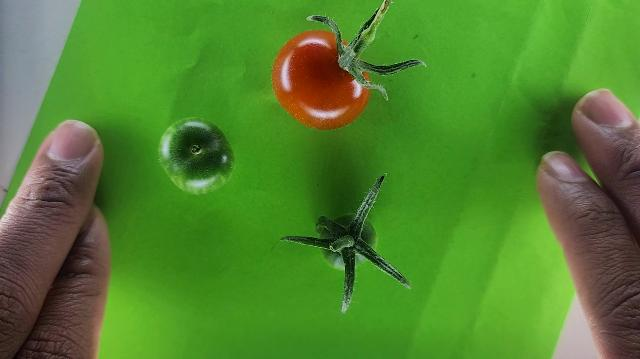Fruit Maturation: (157, 115, 237, 195), (315, 213, 378, 272)
Fully Grown: (269, 28, 374, 131)
